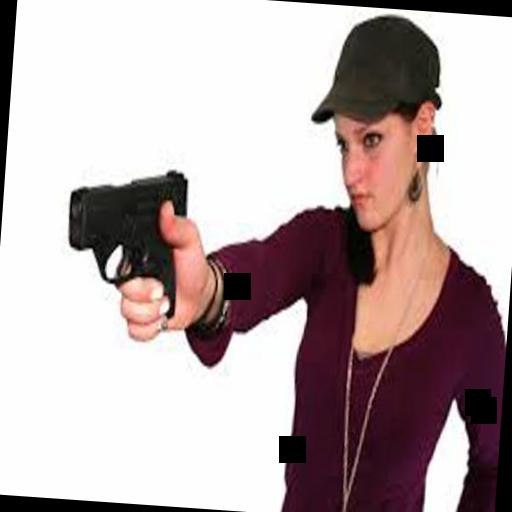Handgun: (54, 150, 192, 338)
